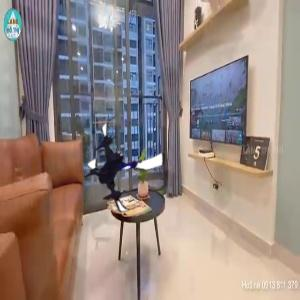drone: (76, 115, 175, 214)
